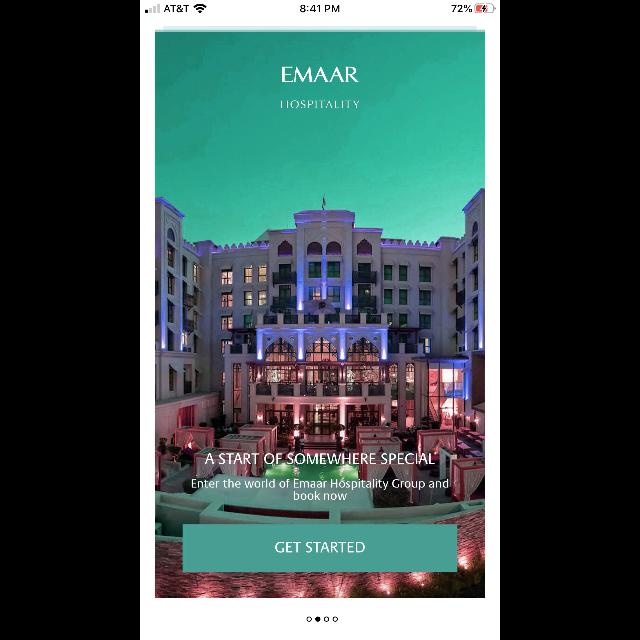image: (155, 26, 485, 598)
pageindicator: (306, 616, 338, 622)
text: (192, 478, 448, 499), (206, 454, 434, 464), (282, 66, 358, 82), (282, 100, 358, 108)
textbutton: (183, 524, 457, 572)
uppertaskbar: (140, 0, 500, 14)
